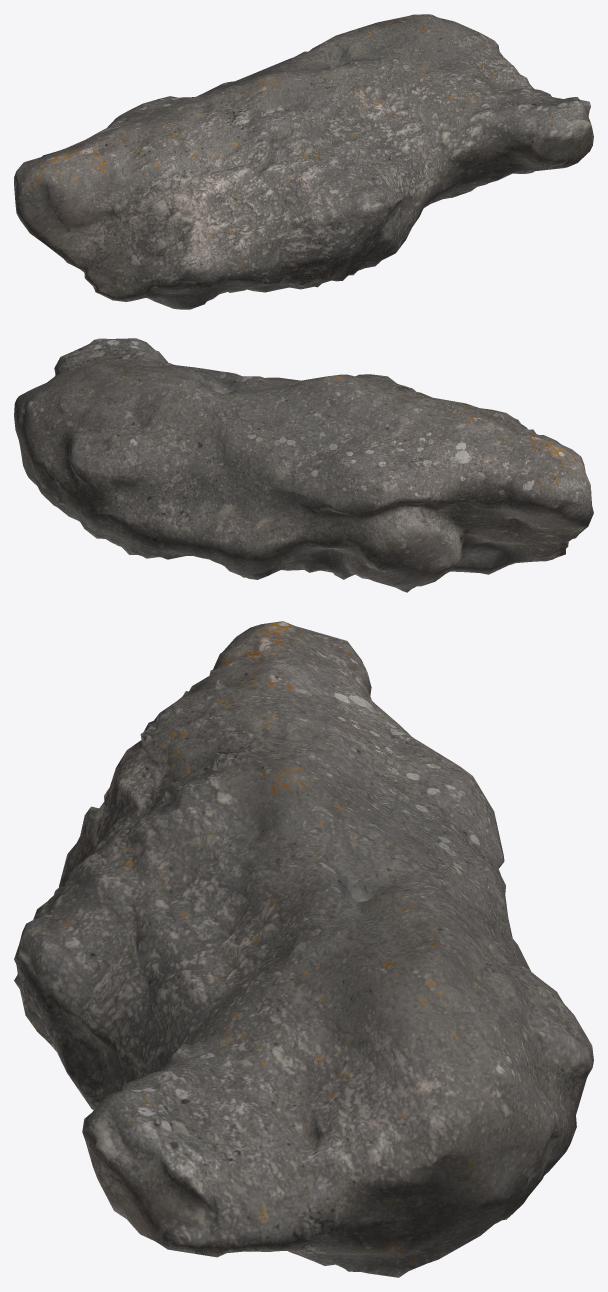
The model's file is SM_wfjvcgybw_tier_2.gltf.
3 renders of one model, top to bottom at view 1: azimuth 30°, elevation 25°; view 2: azimuth 150°, elevation 25°; view 3: azimuth 270°, elevation 25°, orthographic. The views are drawn at different scales.
Visible parts, largest first — view 1: SM_wfjvcgybw; view 2: SM_wfjvcgybw; view 3: SM_wfjvcgybw.
Part boxes in pixels (bbox=[...]): SM_wfjvcgybw: bbox=[14, 14, 593, 309]; SM_wfjvcgybw: bbox=[14, 338, 593, 592]; SM_wfjvcgybw: bbox=[14, 621, 593, 1277].
Bounding box in the file's own units: 3.33 × 1.12 × 1.67.
1 material, 1 textured.
